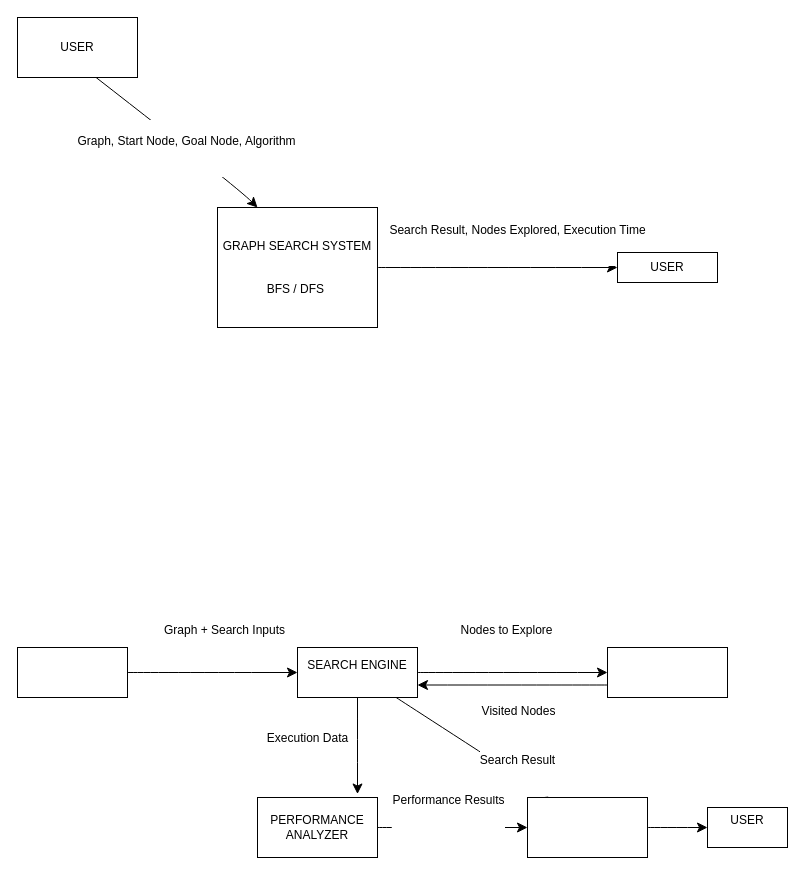
This 805x875 diagram has some shape labels left out. The centre of each missing label's shape, as x and y in pixels:
"INPUT MODULE" goes at (x=72, y=672).
"OUTPUT MODULE" goes at (x=587, y=827).
"VISITED SET" goes at (x=667, y=672).
